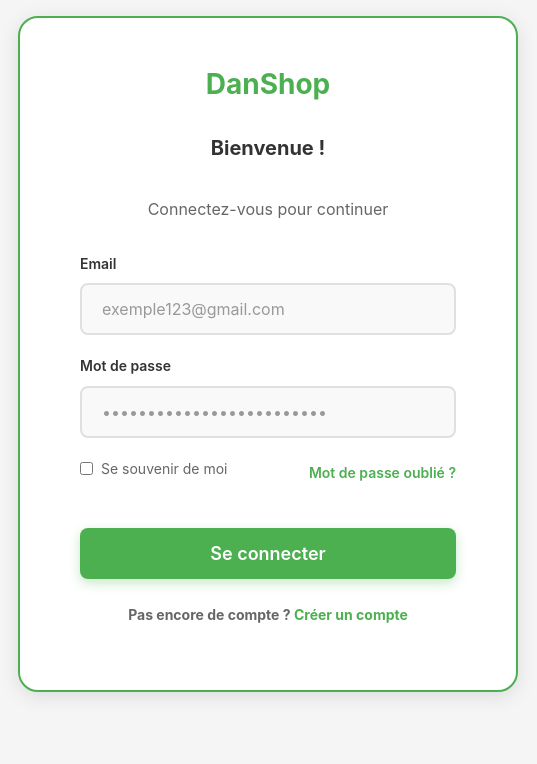
Test case: Authentification - Tests d'Intégration › Intégration Login + AppContext › devrait connecter l'utilisateur et mettre à jour le contexte
The image size is (537, 764).
Type "integration@test.com" into the field with placeholder "exemple123@gmail.com" at (268, 309), box [102,299,434,319]
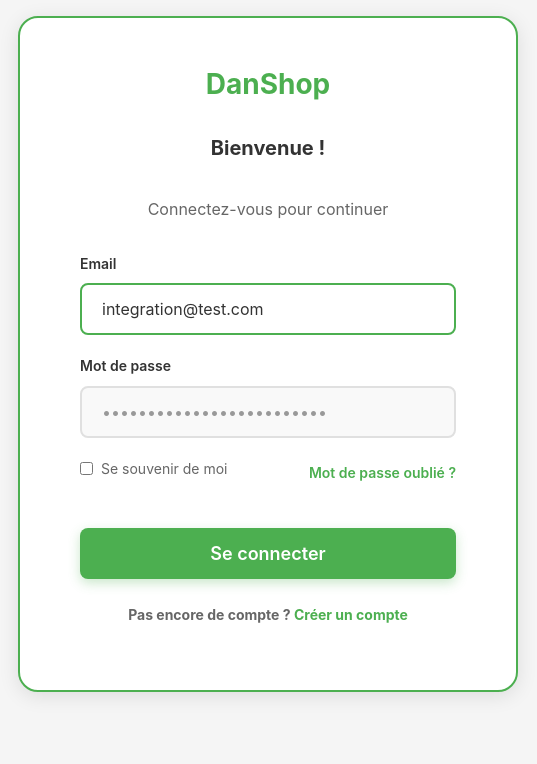
Type "Password123" into the password field with placeholder "•••••••••••••••••••••••••" at (268, 412), box [102,402,434,422]
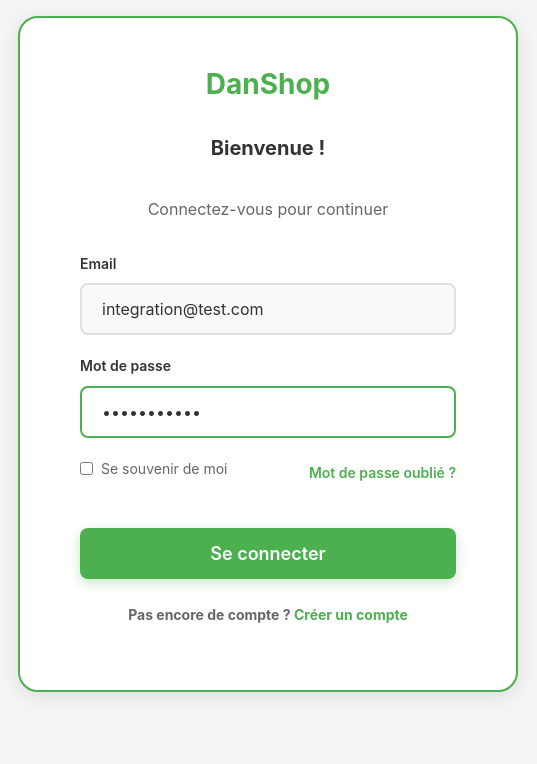
Click the button "Se connecter" at (268, 554), box [80,528,456,579]
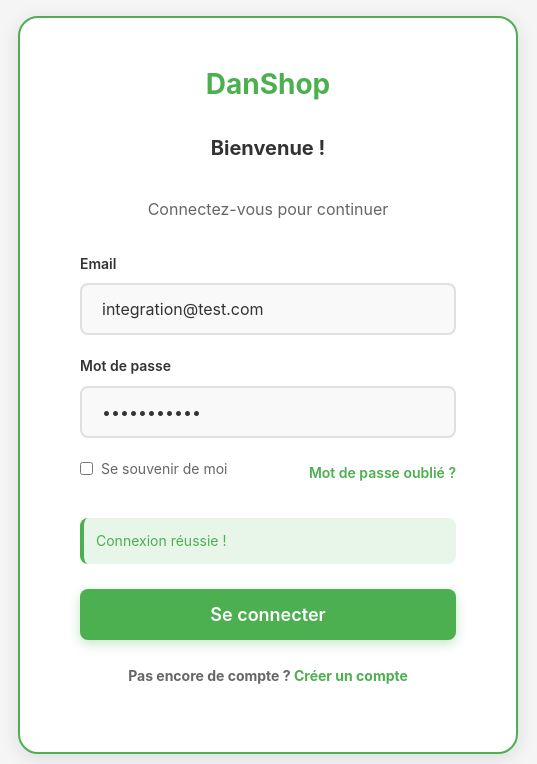
Result: the text "Connexion réussie !" is shown at [80,518,456,564]
